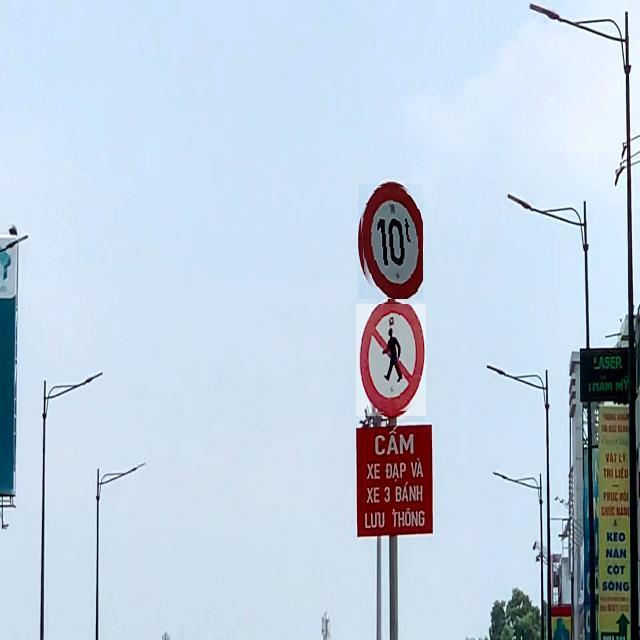P-112: (356, 304, 426, 416)
P-115: (358, 184, 423, 299)
